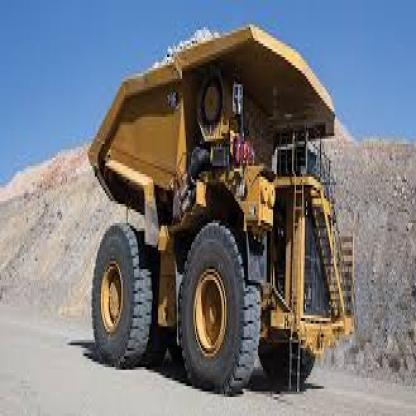dump_truck: (80, 27, 364, 405)
